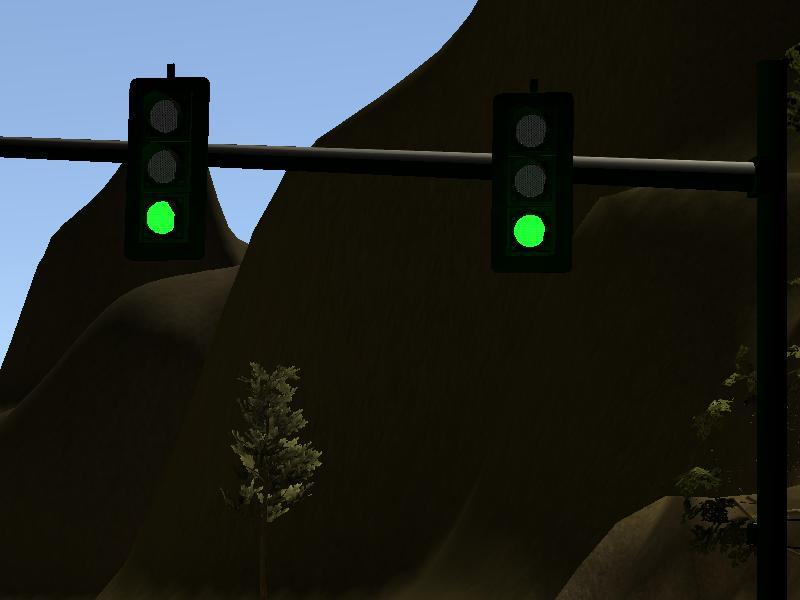Green: (492, 90, 574, 274), (126, 77, 208, 260)
